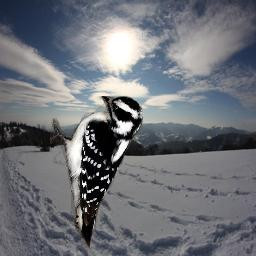Woodpecker: (50, 96, 143, 252)
